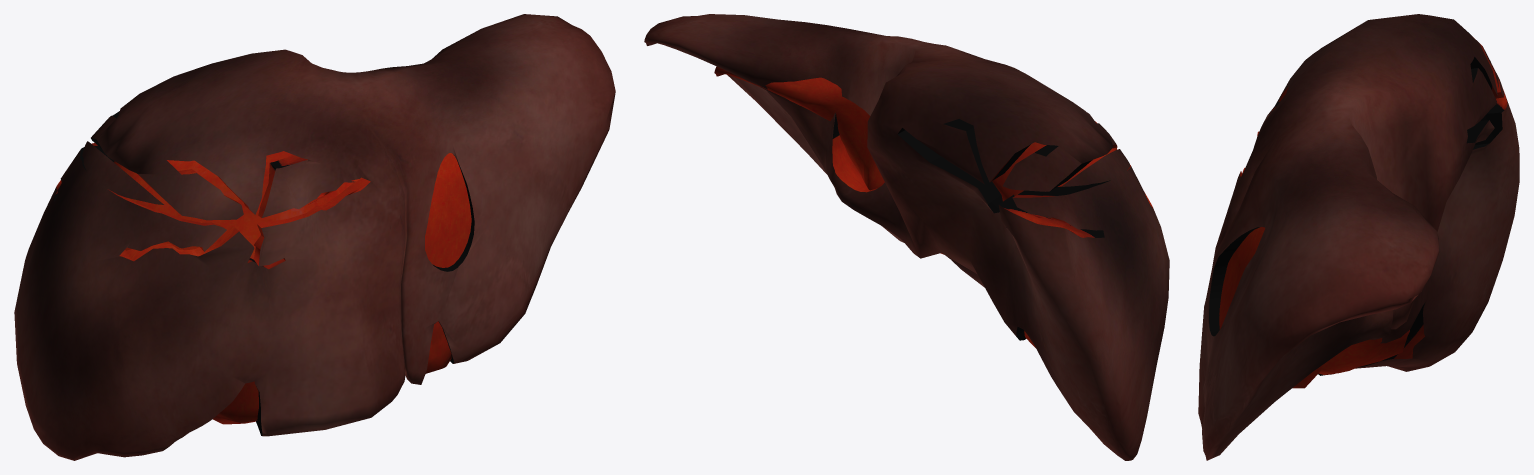
File: higado.glb
3 views of the same model, side by side, from view 1: azimuth 30°, elevation 25°; view 2: azimuth 150°, elevation 25°; view 3: azimuth 270°, elevation 25° (orthographic). The views are drawn at different scales.
Visible parts, largest first — view 1: higado, higado001; view 2: higado, higado001; view 3: higado, higado001.
Boxes of the visible parts, x1=… form: higado: x1=14, y1=14, x2=615, y2=460; higado001: x1=114, y1=151, x2=471, y2=424; higado: x1=644, y1=14, x2=1169, y2=460; higado001: x1=714, y1=66, x2=1117, y2=347; higado: x1=1198, y1=14, x2=1519, y2=460; higado001: x1=1219, y1=227, x2=1409, y2=388.
Size of the model in its own units: 0.8323 by 0.5248 by 0.359.
Materials: 3 (3 with a texture image).
